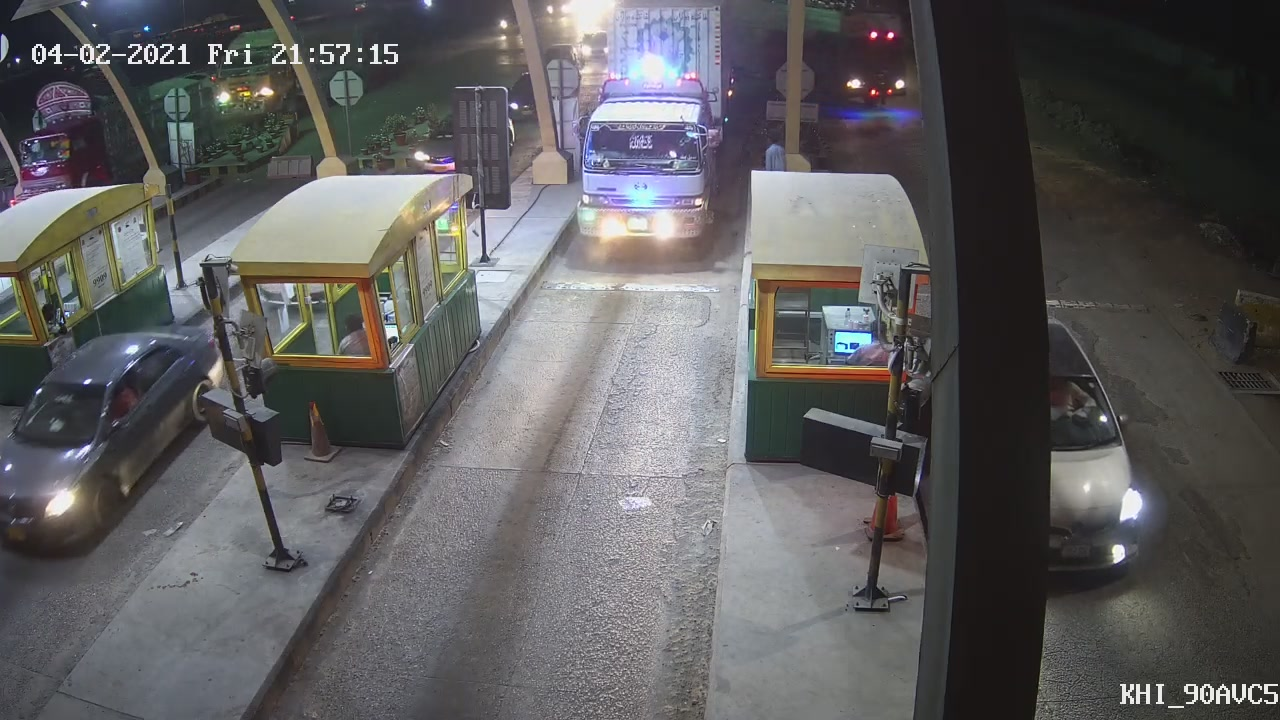F6: (565, 6, 728, 255)
